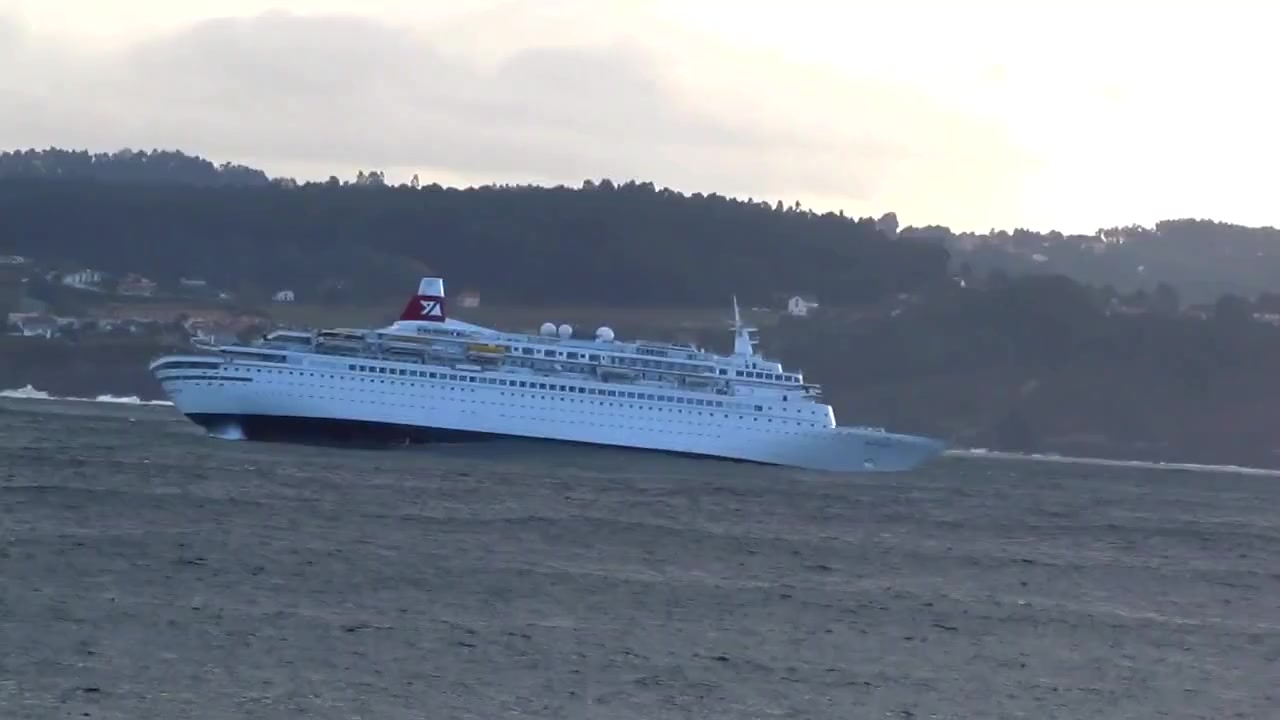boat: (146, 278, 951, 479)
